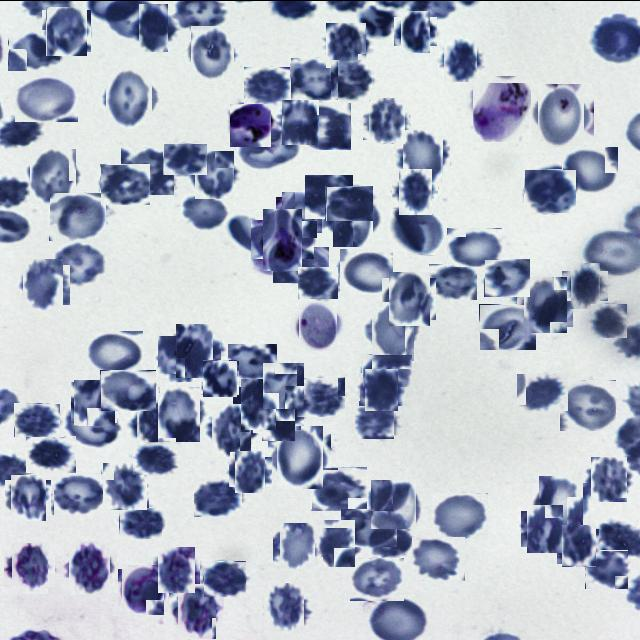difficult: (471, 76, 534, 140), (230, 103, 271, 146)
red blood cell: (534, 87, 589, 143), (272, 429, 327, 484), (559, 379, 616, 430), (15, 75, 78, 121), (103, 71, 156, 125), (49, 191, 106, 240), (239, 125, 302, 169), (536, 478, 588, 530), (295, 102, 351, 150), (64, 402, 121, 449), (391, 206, 446, 254), (562, 146, 618, 193), (367, 305, 418, 356), (28, 149, 78, 201), (52, 240, 106, 288), (432, 492, 488, 538), (479, 304, 536, 349), (520, 279, 570, 329), (368, 482, 418, 532), (85, 330, 143, 373), (121, 147, 174, 194), (311, 466, 367, 510), (340, 248, 393, 294), (188, 27, 237, 76), (154, 389, 203, 437), (65, 543, 114, 591), (412, 536, 465, 580), (350, 557, 404, 600), (385, 274, 433, 322), (100, 369, 156, 410), (524, 168, 576, 212), (50, 472, 104, 514), (19, 260, 66, 308), (261, 584, 308, 632), (120, 566, 167, 613), (173, 587, 220, 634), (290, 56, 339, 101), (8, 28, 60, 70), (399, 132, 446, 178), (331, 196, 376, 244), (447, 227, 502, 266), (341, 508, 397, 546), (208, 407, 254, 453), (44, 8, 90, 54), (102, 462, 148, 508), (158, 335, 204, 381), (171, 327, 217, 373), (305, 174, 353, 218), (100, 163, 150, 204), (273, 246, 329, 282), (262, 362, 306, 407), (516, 372, 568, 410), (296, 376, 345, 416), (8, 546, 52, 590), (192, 152, 236, 196), (72, 380, 116, 424), (244, 66, 293, 105), (237, 382, 280, 426), (325, 23, 368, 66), (194, 478, 242, 516), (228, 343, 277, 380), (257, 394, 300, 436), (180, 193, 230, 229), (27, 436, 76, 472), (156, 548, 198, 590), (276, 525, 318, 567), (524, 507, 566, 549), (316, 522, 358, 564), (280, 100, 322, 142), (484, 258, 530, 296), (429, 263, 477, 299), (366, 100, 408, 141), (278, 193, 320, 234), (332, 59, 374, 99), (326, 185, 374, 220), (585, 549, 628, 588), (132, 440, 181, 474), (362, 353, 412, 386), (589, 458, 630, 498), (8, 477, 48, 518), (134, 404, 174, 444), (395, 171, 435, 211), (14, 402, 60, 436), (203, 560, 246, 596), (356, 400, 396, 438), (134, 7, 172, 47), (566, 266, 604, 304), (560, 526, 598, 564), (362, 370, 400, 408), (163, 142, 207, 174), (442, 41, 479, 79), (119, 506, 162, 538), (232, 452, 268, 490), (202, 359, 238, 395), (370, 528, 416, 556), (298, 266, 338, 298), (398, 12, 433, 48), (591, 303, 627, 337)
ring: (296, 303, 340, 347)
trophozoite: (257, 213, 308, 264)
